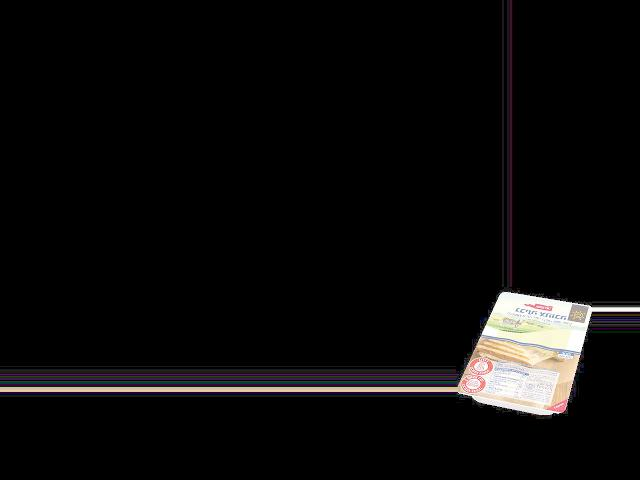cheese: (477, 293, 580, 412)
